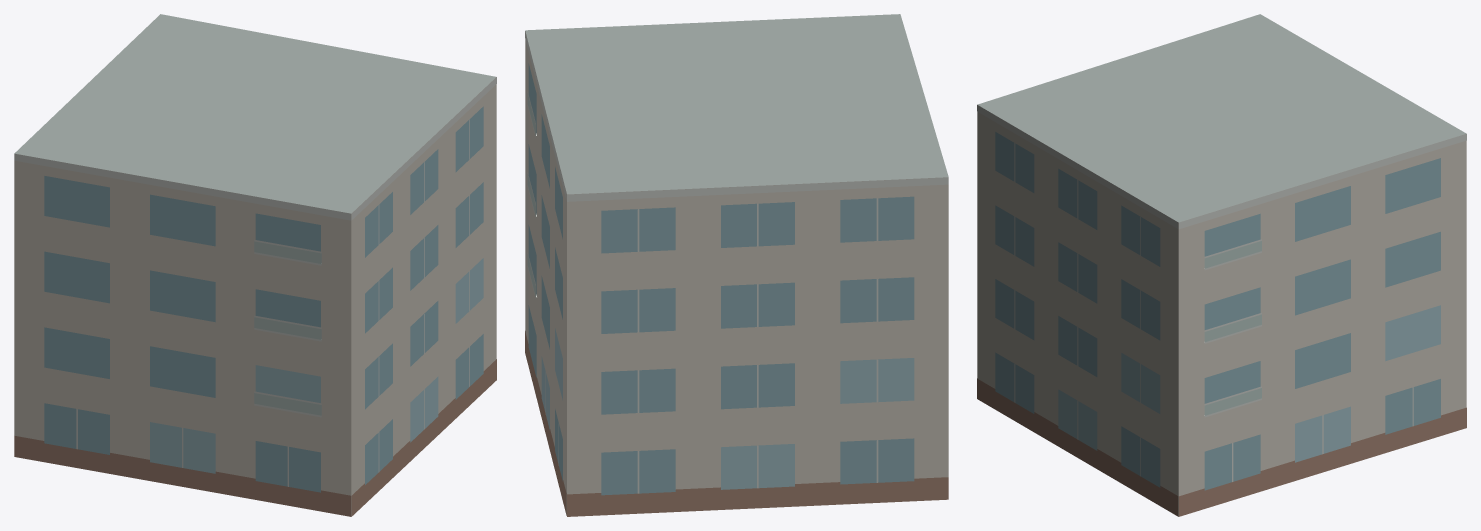
The model's file is survey-upis-32820275.glb.
The picture shows the model from 3 angles, left to right: view 1: azimuth 30°, elevation 25°; view 2: azimuth 150°, elevation 25°; view 3: azimuth 270°, elevation 25°; orthographic projection. The views are drawn at different scales.
Visible parts, largest first — view 1: survey-upis-32820275.tmp; view 2: survey-upis-32820275.tmp; view 3: survey-upis-32820275.tmp.
Boxes of the visible parts, x1=… form: survey-upis-32820275.tmp: x1=14, y1=14, x2=496, y2=516; survey-upis-32820275.tmp: x1=525, y1=14, x2=948, y2=516; survey-upis-32820275.tmp: x1=977, y1=14, x2=1466, y2=516.
Bounding box in the file's own units: 16.04 × 10.55 × 15.92.
